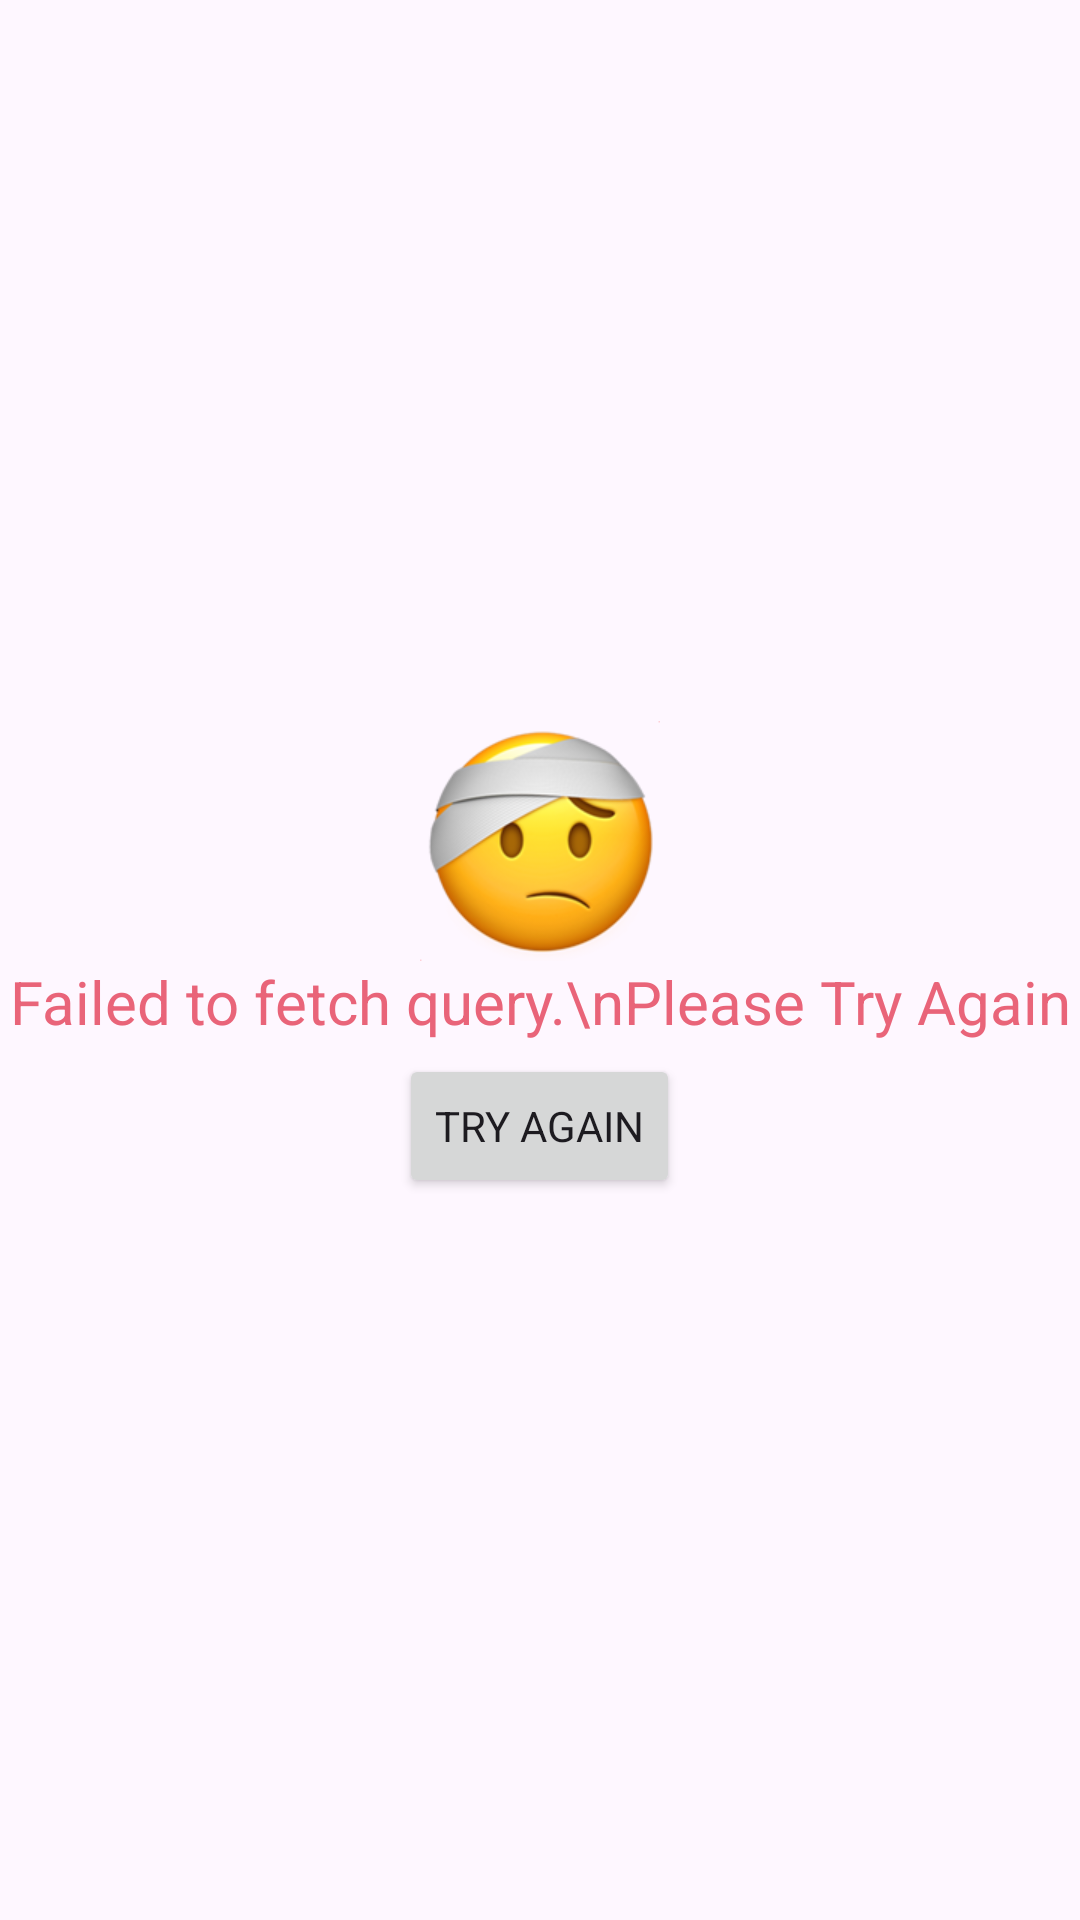

Icons on this 1080 × 1920 Android screen, each with the point to tap as (x=x, y=y):
emoji error: (x=540, y=841)
